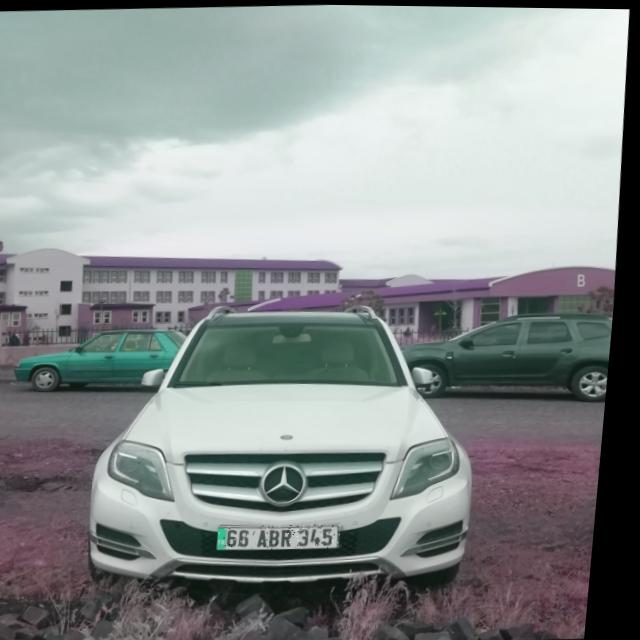license_plate: (226, 522, 353, 551)
